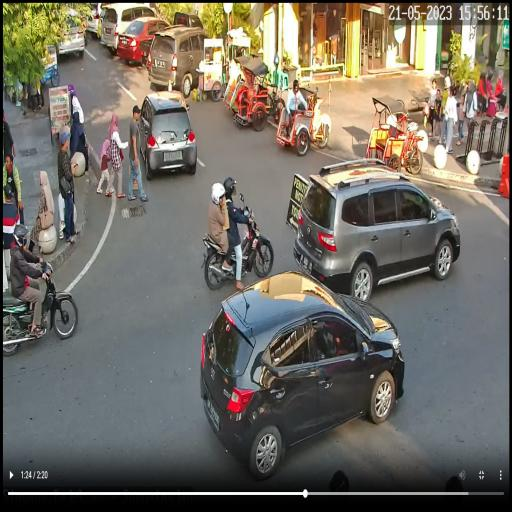mobil: (194, 274, 409, 464), (293, 160, 461, 304), (140, 88, 195, 184), (149, 24, 214, 94), (103, 2, 160, 56), (120, 13, 172, 69)
motor: (1, 247, 83, 359), (200, 194, 273, 288)
